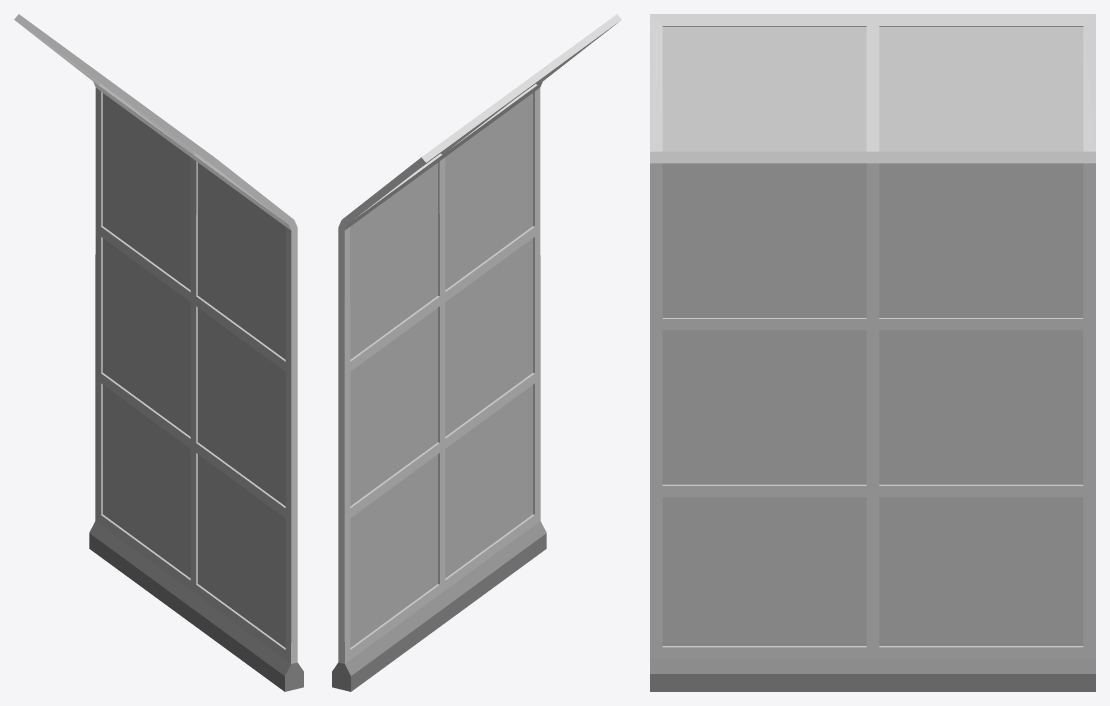
File: Fence_05.FBX
3 renders of one model, left to right at view 1: azimuth 30°, elevation 25°; view 2: azimuth 150°, elevation 25°; view 3: azimuth 270°, elevation 25°, orthographic. The views are drawn at different scales.
Visible parts, largest first — view 1: Fence_05; view 2: Fence_05; view 3: Fence_05.
Part boxes in pixels (x1,y1,x2,y2): Fence_05: (14,14,303,691); Fence_05: (332,14,621,691); Fence_05: (650,14,1095,691).
Size of what is drawn, in the model's own units: 50 by 280 by 180.
